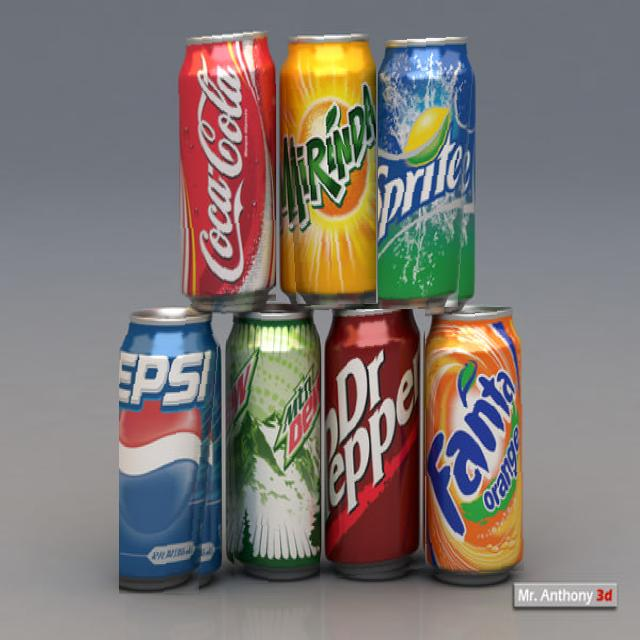Cans: (119, 304, 222, 594), (175, 26, 276, 310), (418, 307, 524, 575), (378, 36, 476, 318), (324, 309, 425, 579), (282, 21, 376, 306), (226, 306, 320, 584)
